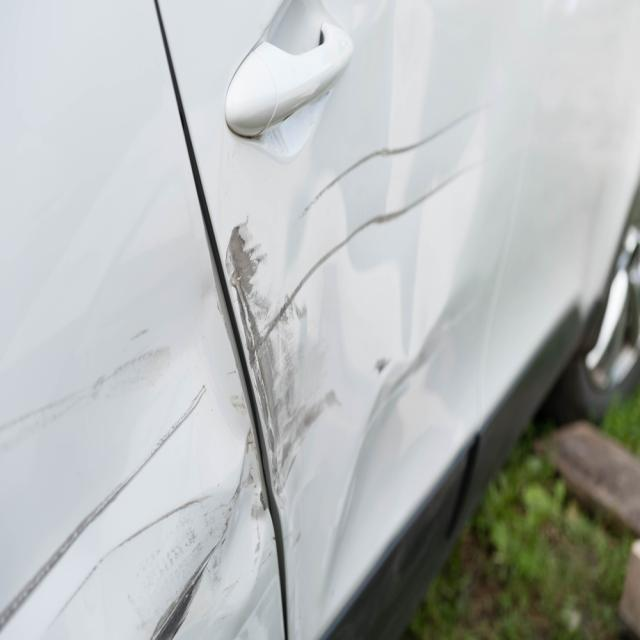dent: (282, 0, 489, 616), (187, 440, 266, 614)
scratch: (0, 313, 220, 640), (226, 213, 336, 508)
